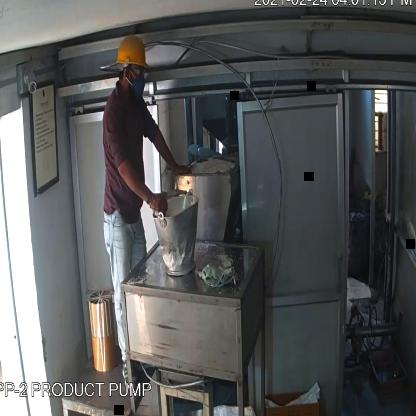helmet: (111, 29, 152, 73)
